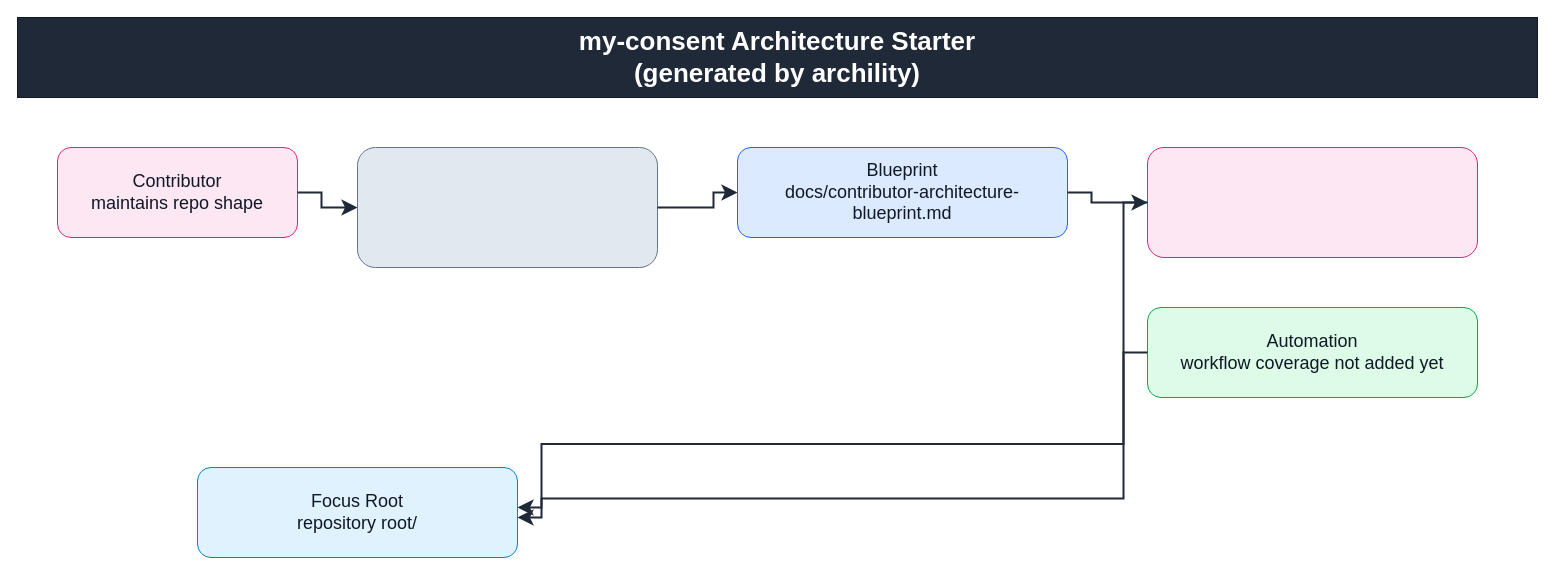
The diagram is 1555 pixels wide and 575 high, and some of its shapes have lost their labels. The centre of each missing label's shape, as x and y in pixels:
"Diagram Sources repo-architecture.puml repo-architecture.drawio" belongs at [1312,202].
"Governance Surface README.md AGENTS.md LESSONSLEARNED.md" belongs at [507,207].
